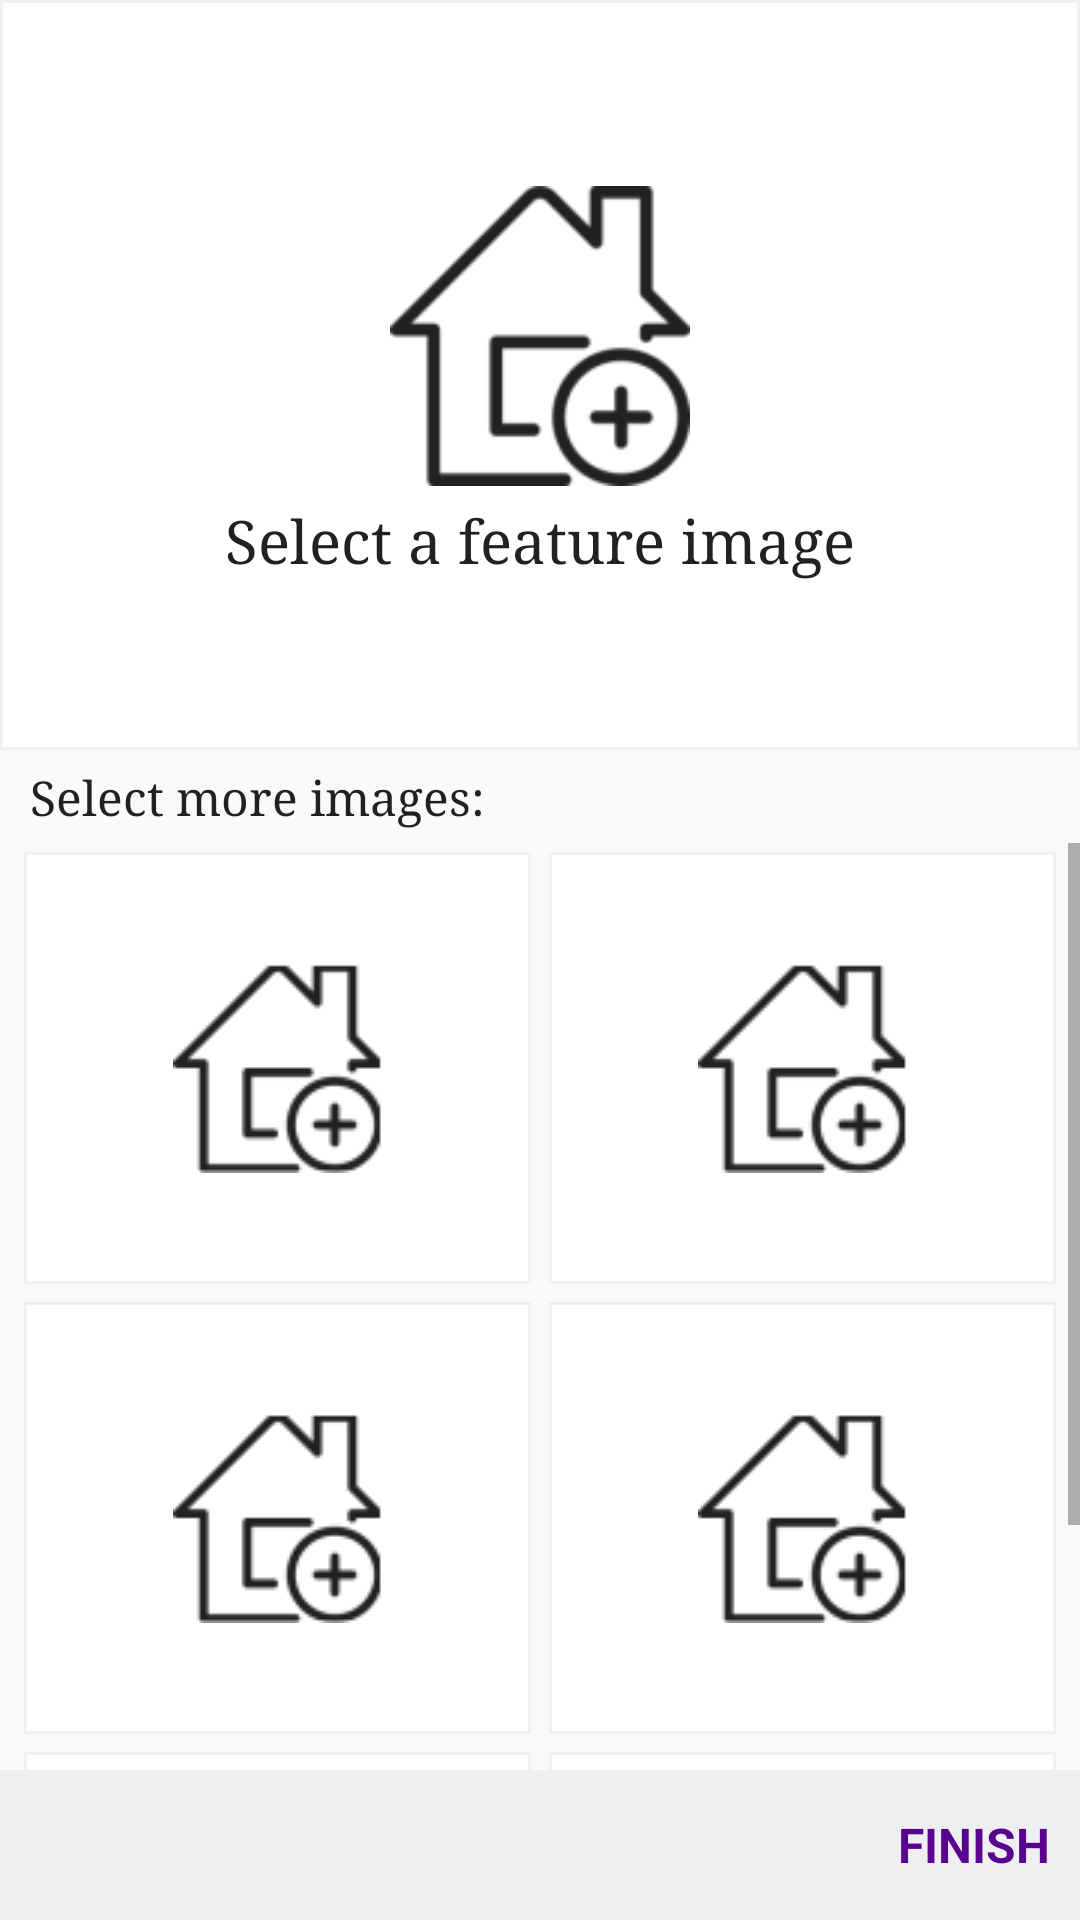

Where to tap for icons on this 1080w x 1920h app screen, as (x,y):
addhsefeatured: (540,336)
